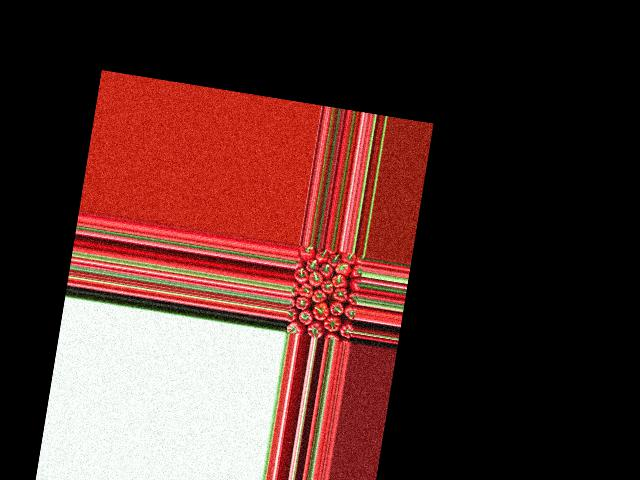bell_pepper: (298, 245, 314, 261)
